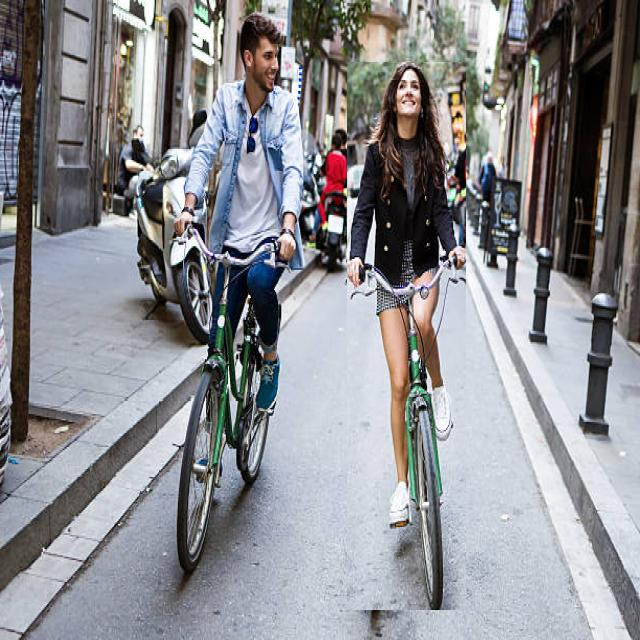bicycle: (175, 15, 302, 572), (347, 62, 465, 610)
motorcycle: (118, 109, 210, 343)
